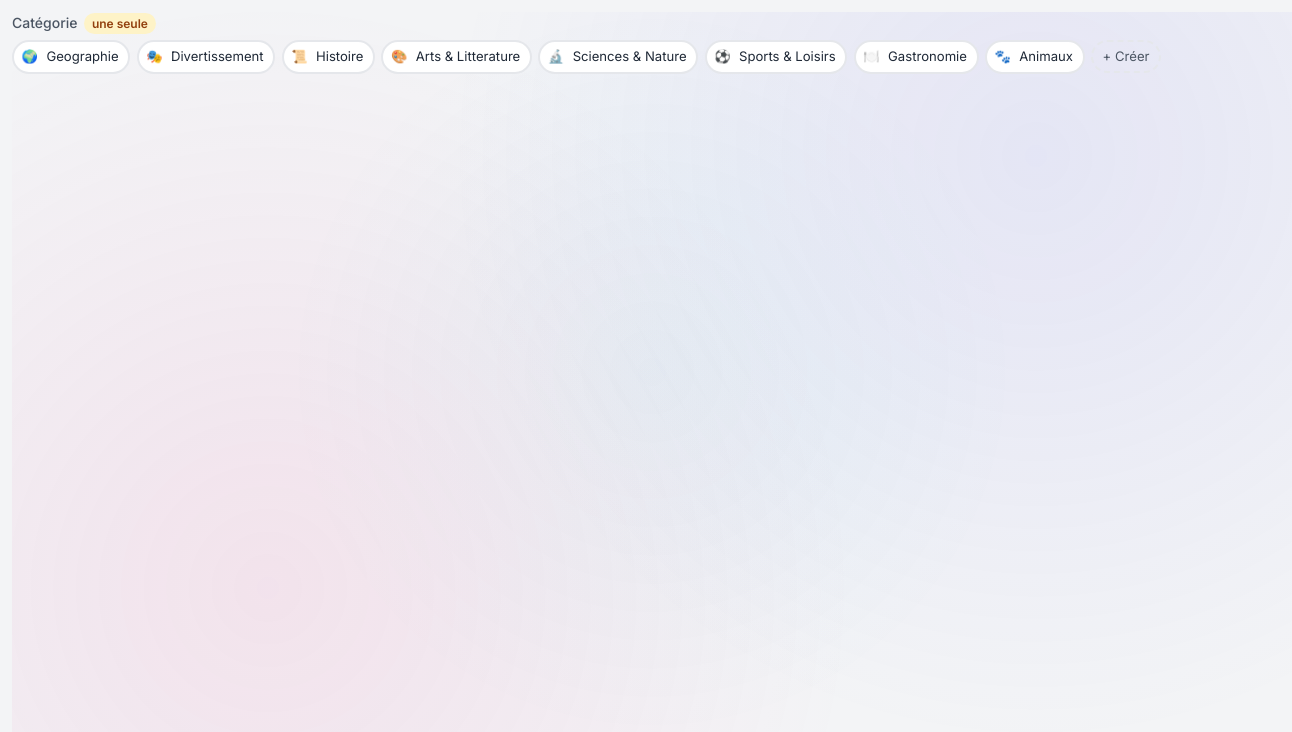
it: CategoryPicker — allowCreate (single) › clic sur « + » affiche le formulaire (input texte, input file, Valider/Annuler)
Click the button titled "Créer une catégorie" at [1126, 57], box x1=1091 y1=40 x2=1161 y2=74
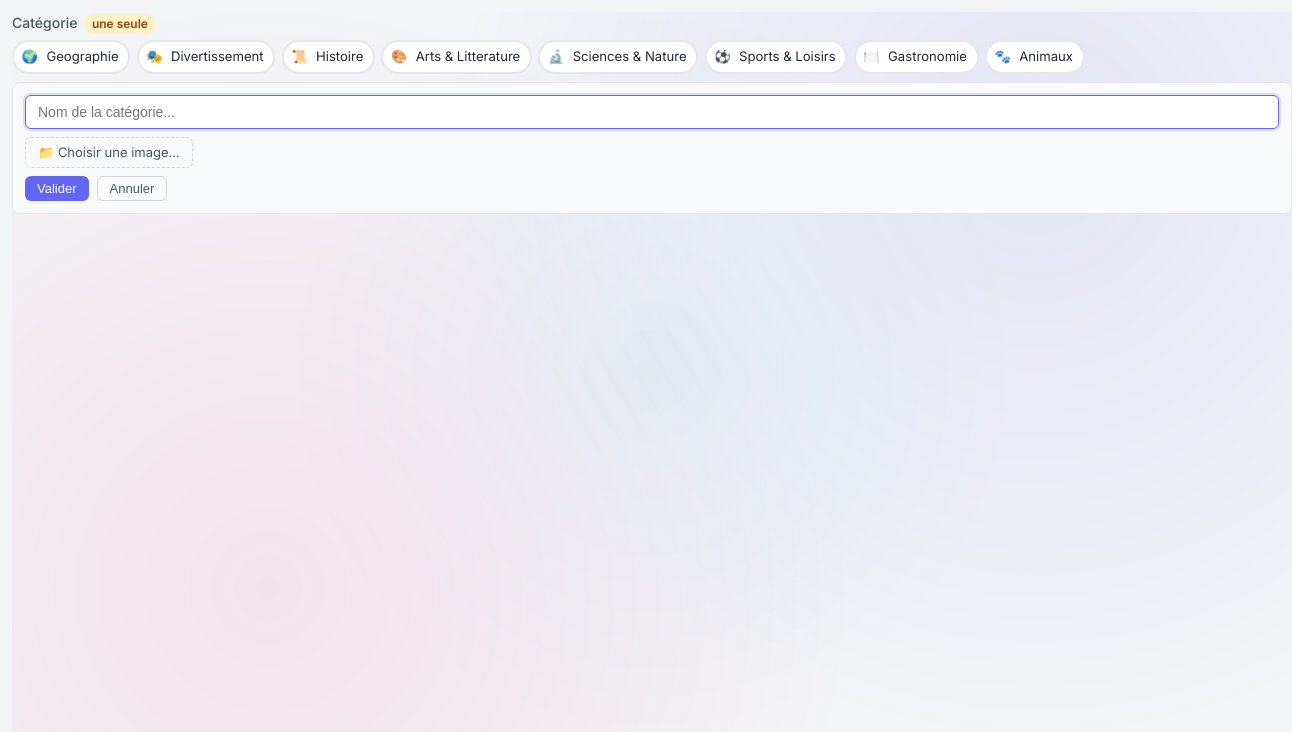
Expected: the field with placeholder "Nom de la catégorie..." is shown, x1=25 y1=95 x2=1279 y2=129
Expected: the button "📁 Choisir une image…" is shown, x1=25 y1=137 x2=193 y2=168
Expected: the button "Valider" is shown, x1=25 y1=176 x2=88 y2=201
